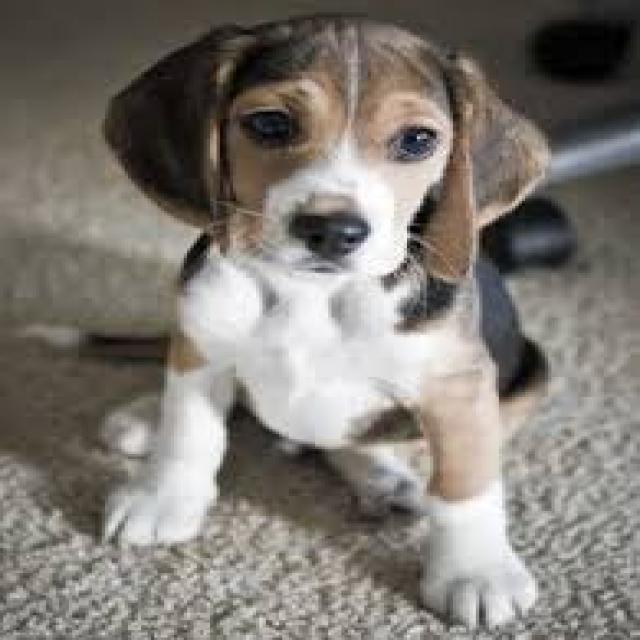Dog: (83, 12, 564, 632)
